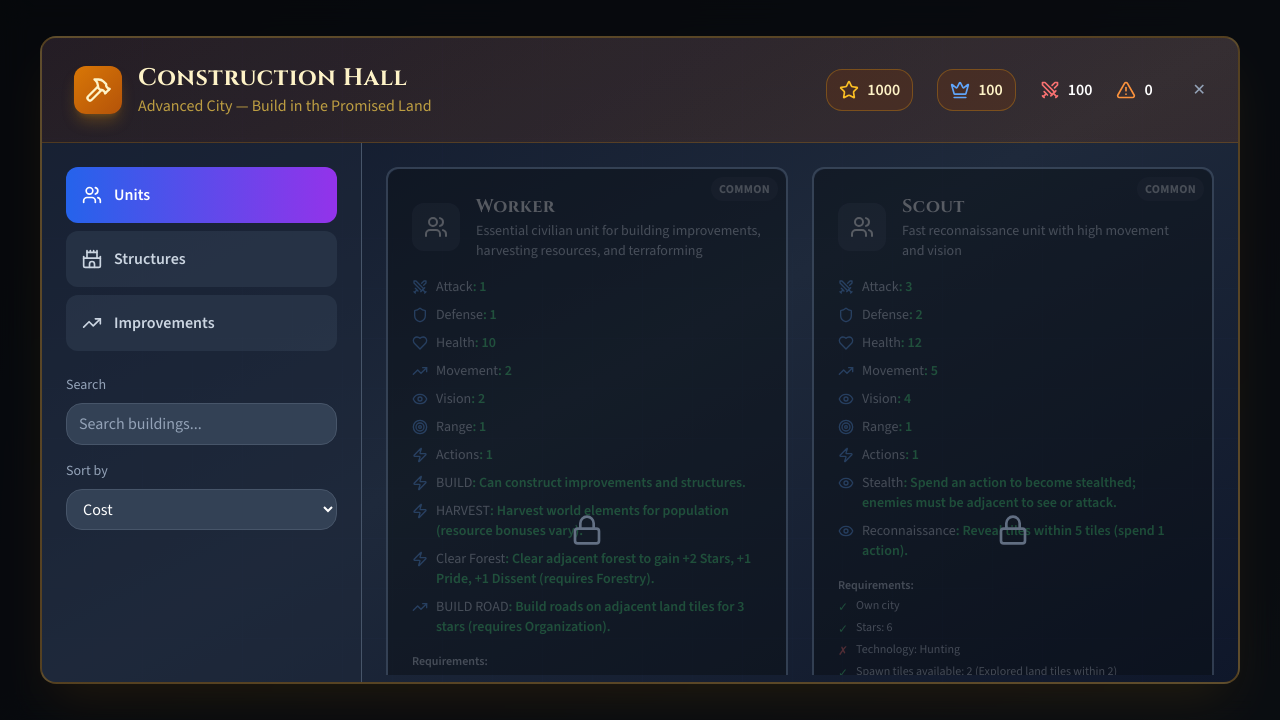
Test: Construction Hall End-to-End Tests › Complete User Workflows › handles technology requirements workflow
Expected: the text "1000" is shown, [867,78,900,102]
Expected: the 1st text "100" is shown, [978,78,1003,102]
Note: Switch to structures tab to see tech-dependent buildings
Click the button "Structures" at (150, 258), box [66,231,337,287]
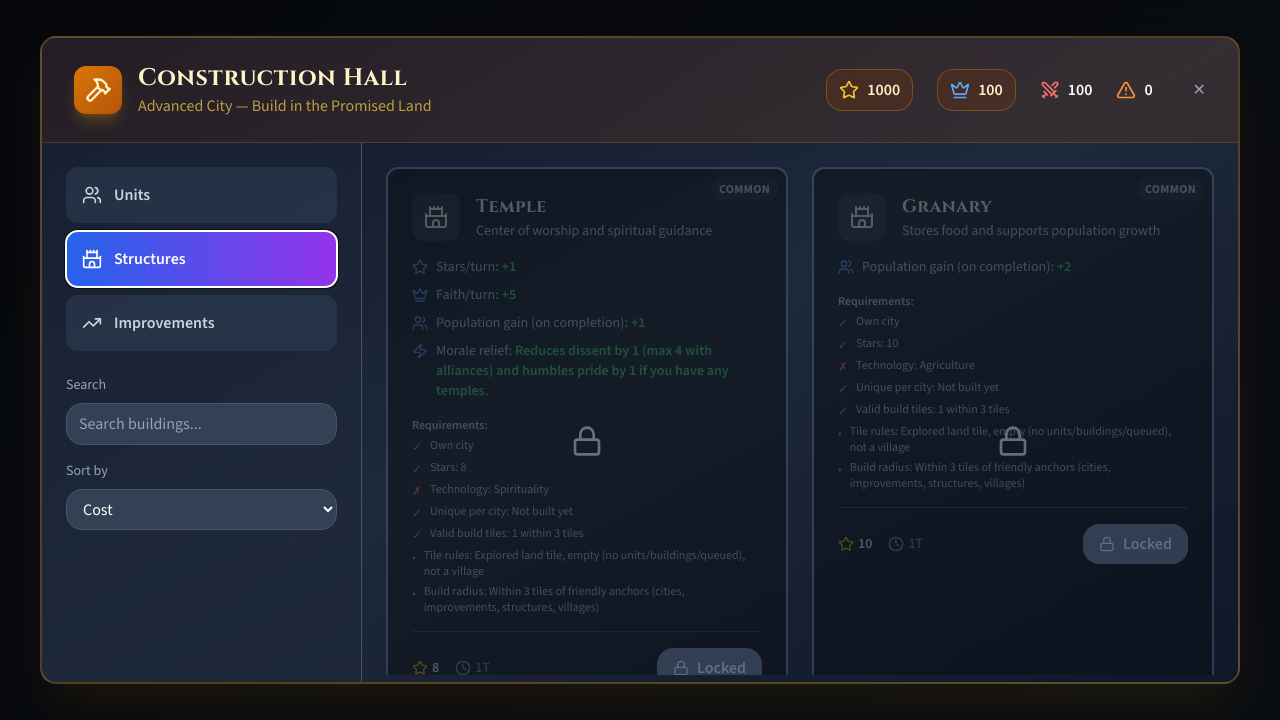
Expected: the button "Locked" below "Technology: Spirituality" is shown, [657,648,762,675]
